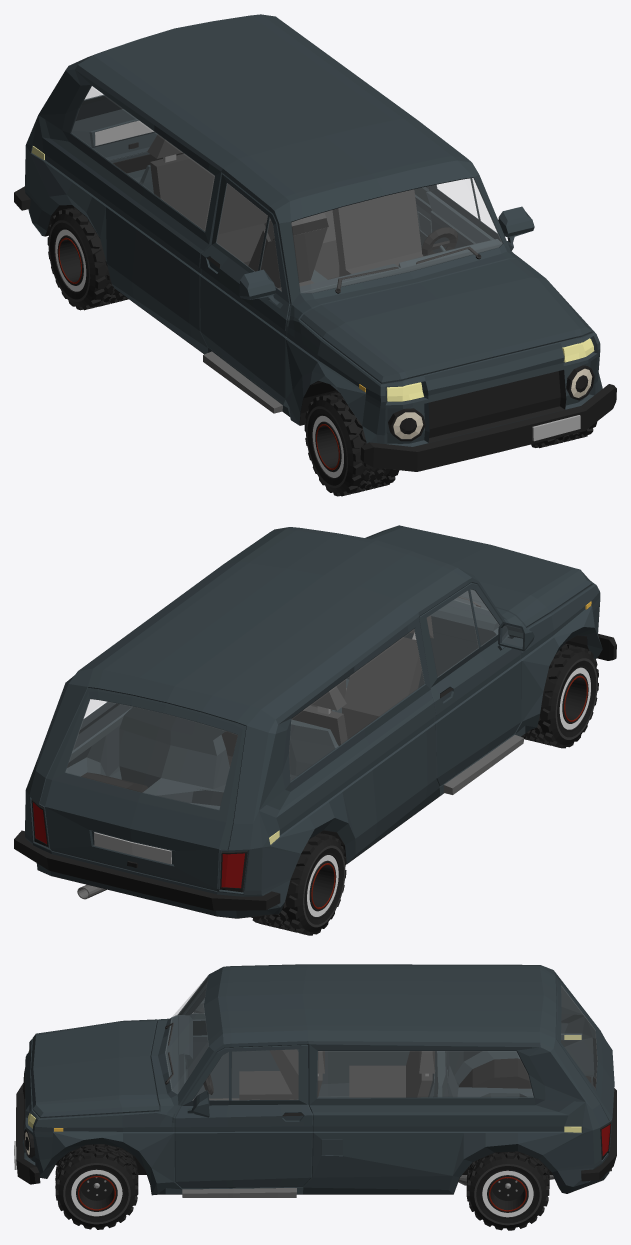
The model's file is car5.glb.
The picture shows the model from 3 angles, top to bottom: view 1: azimuth 30°, elevation 25°; view 2: azimuth 150°, elevation 25°; view 3: azimuth 270°, elevation 25°; orthographic projection. The views are drawn at different scales.
Visible parts, largest first — view 1: Body.018, hood.006, WindowFront.006, Door.012, Seats.006, WondowRight.006, Seats.007, Bumper.010, Wheel.025, Wheel.023, WindowDoor.013, Trunk.006 (+11 smaller); view 2: Body.018, Trunk.006, WindowBack.005, Floor.020, Door.012, hood.006, WondowRight.006, Wheel.023, Wheel.025, Seats.006, Bumper.011, WindowDoor.013 (+7 smaller); view 3: Body.018, Door.013, hood.006, WondowRight.006, Wheel.025, Wheel.023, WindowDoor.014, Seats.007, Door.012, WindowFront.006, Seats.006, Floor.018 (+8 smaller).
Part boxes in pixels (<box>): Body.018: <box>25,14,602,446</box>; hood.006: <box>300,259,592,383</box>; WindowFront.006: <box>292,178,502,292</box>; Door.012: <box>200,173,290,403</box>; Seats.006: <box>248,189,423,290</box>; WondowRight.006: <box>72,87,214,229</box>; Seats.007: <box>147,134,339,279</box>; Bumper.010: <box>360,384,616,471</box>; Wheel.025: <box>304,391,596,496</box>; Wheel.023: <box>47,207,128,310</box>; WindowDoor.013: <box>216,183,280,290</box>; Trunk.006: <box>71,94,157,160</box>; Body.018: <box>25,527,602,918</box>; Trunk.006: <box>39,688,246,890</box>; WindowBack.005: <box>66,699,237,809</box>; Floor.020: <box>119,706,338,809</box>; Door.012: <box>419,582,521,786</box>; hood.006: <box>365,525,592,627</box>; WondowRight.006: <box>289,630,424,779</box>; Wheel.023: <box>251,832,346,935</box>; Wheel.025: <box>521,643,598,748</box>; Seats.006: <box>309,615,433,739</box>; Bumper.011: <box>14,830,280,910</box>; WindowDoor.013: <box>427,590,499,676</box>; Body.018: <box>22,964,612,1194</box>; Door.013: <box>174,1045,313,1188</box>; hood.006: <box>31,1019,159,1118</box>; WondowRight.006: <box>318,1051,532,1096</box>; Wheel.025: <box>55,1144,138,1229</box>; Wheel.023: <box>466,1151,549,1230</box>; WindowDoor.014: <box>196,1050,297,1099</box>; Seats.007: <box>349,1051,434,1097</box>; Door.012: <box>185,987,298,1098</box>; WindowFront.006: <box>165,976,207,1093</box>; Seats.006: <box>239,1049,324,1100</box>; Floor.018: <box>40,1058,608,1195</box>.
Size of the model in its own units: 7.44 by 5.83 by 16.91.
4 materials, 1 textured.
